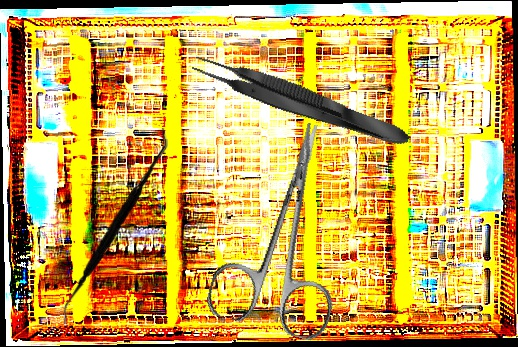Iris Scissors: (203, 109, 377, 344)
Spatula Surgical: (53, 127, 174, 325)
Tissue Forceps: (188, 47, 414, 156)
